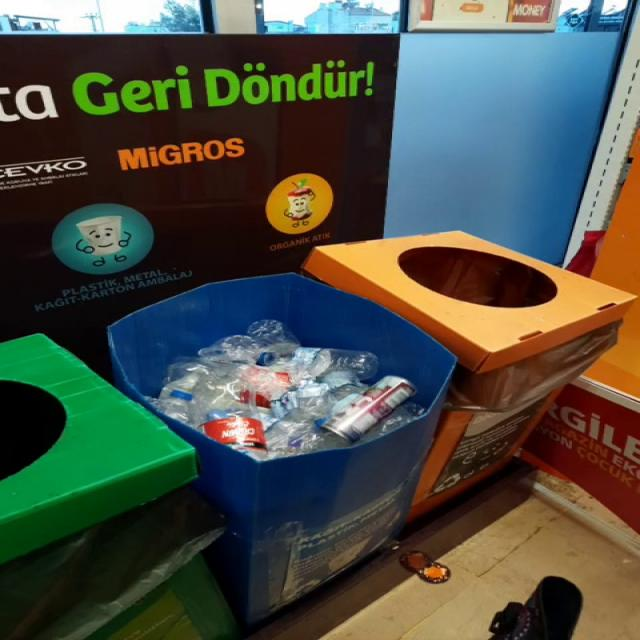metal: (321, 376, 416, 441)
